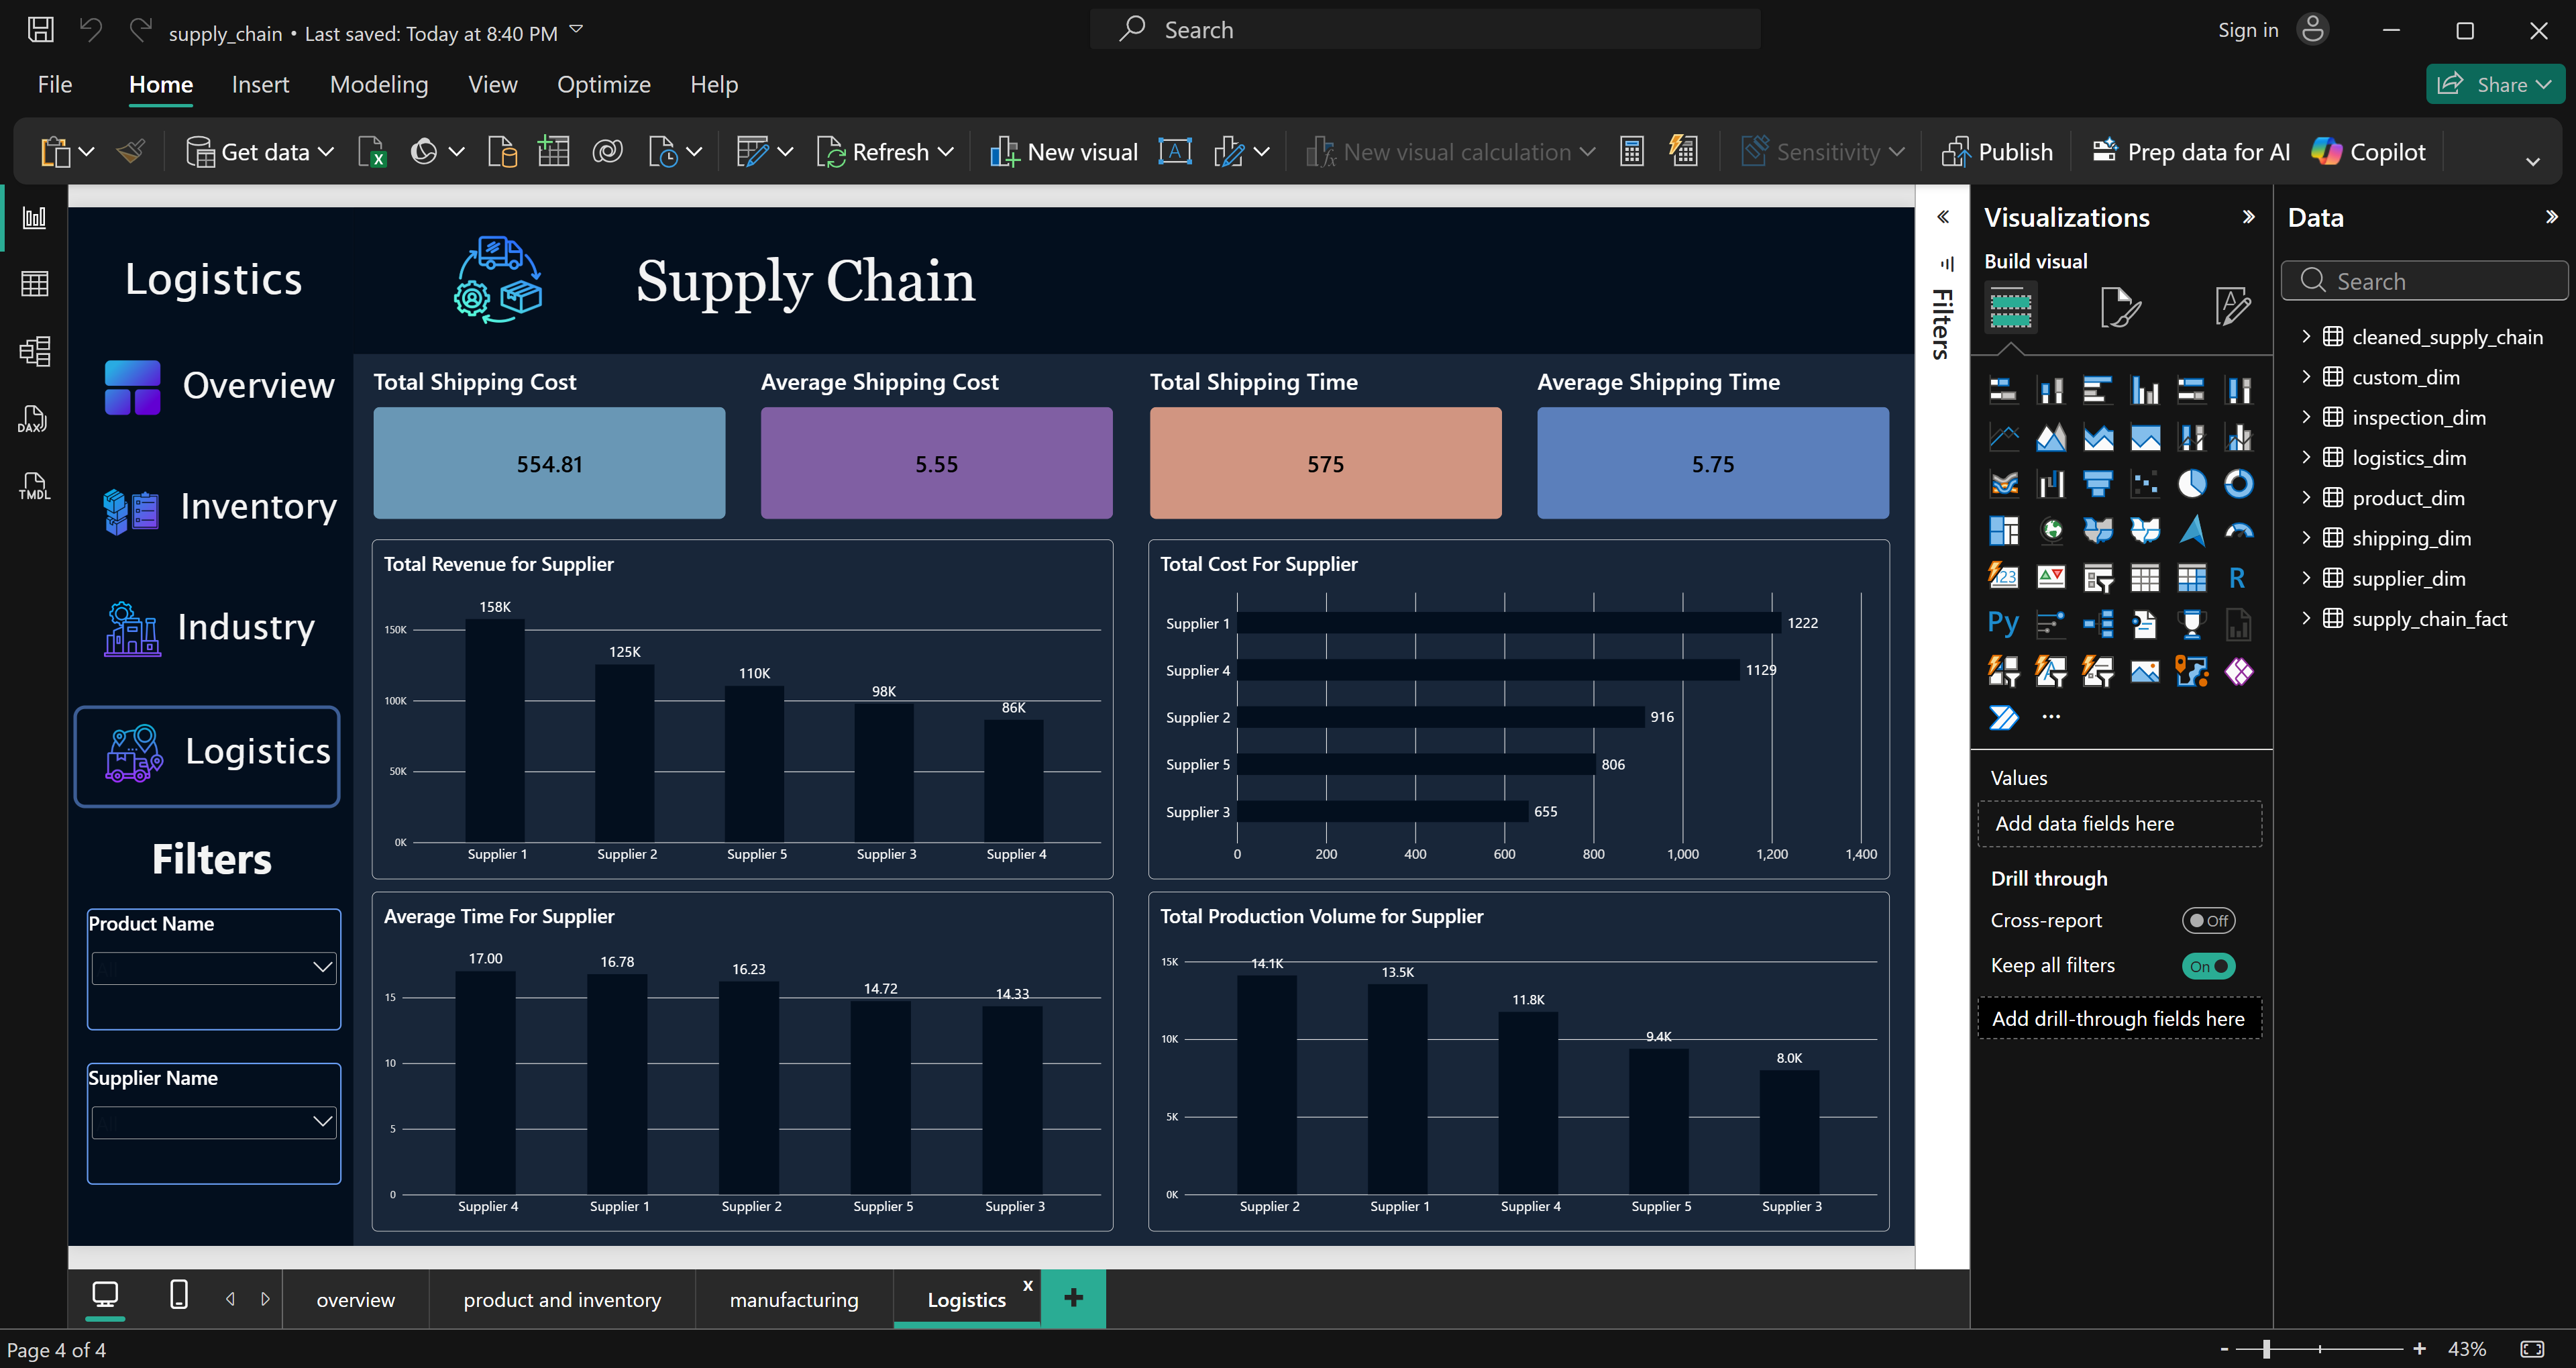

The dashboard page shown, as its layout file describes it:
{"tool":"powerbi","page":{"name":"Logistics","canvas":[2560,1440],"ordinal":3},"visuals":[{"type":"shape","box":[0,0,395.2,1440.8],"z":0},{"type":"shape","box":[395.2,0,2165.4,203.1],"z":1000},{"type":"image","box":[511.5,38.4,168.1,122.5],"z":2000},{"type":"textbox","box":[765.6,56.4,516.3,105.7],"z":3000},{"type":"cardVisual","title":"Total Shipping Cost","fields":{"Data":["Sum(supply_chain_fact.shipping_costs)"]},"box":[423,217.6,488.4,214],"z":4000},{"type":"cardVisual","title":"Average Shipping Cost","fields":{"Data":["Avg(supply_chain_fact.shipping_costs)"]},"box":[960.9,217.6,488.4,214],"z":5000},{"type":"cardVisual","title":"Total Shipping Time","fields":{"Data":["Sum(supply_chain_fact.shipping_time)"]},"box":[1498.9,217.6,488.4,214],"z":6000},{"type":"cardVisual","title":"Average Shipping Time","fields":{"Data":["Avg(supply_chain_fact.shipping_time)"]},"box":[2036.8,218.4,488.4,214],"z":7000},{"type":"clusteredColumnChart","title":"Total Revenue for Supplier","fields":{"Category":["supplier_dim.supplier_name"],"Y":["Sum(supply_chain_fact.revenue)"]},"box":[422.1,461.4,1028.2,471.2],"z":8000},{"type":"clusteredBarChart","title":"Total Cost For Supplier","fields":{"Category":["supplier_dim.supplier_name"],"Y":["Sum(supply_chain_fact.manufacturing_costs)"]},"box":[1496.9,461.4,1028.2,471.2],"z":9000},{"type":"clusteredColumnChart","title":"Average Time For Supplier","fields":{"Y":["Avg(supply_chain_fact.lead_time)"],"Category":["supplier_dim.supplier_name"]},"box":[422.1,949.7,1028.2,471.2],"z":10000},{"type":"clusteredColumnChart","title":"Total Production Volume for Supplier","fields":{"Y":["Sum(supply_chain_fact.production_volumes)"],"Category":["supplier_dim.supplier_name"]},"box":[1496.9,949.7,1028,471],"z":11000},{"type":"textbox","box":[24.5,56.4,353.4,105.5],"z":12000},{"type":"image","box":[49.1,206.1,81,85.9],"z":13000},{"type":"textbox","box":[132.5,211,262.6,81],"z":14000},{"type":"image","box":[49.1,382.8,76.1,78.5],"z":15000},{"type":"textbox","box":[132.5,377.9,262.6,81],"z":16000},{"type":"image","box":[49.1,542.3,81,85.9],"z":17000},{"type":"textbox","box":[130.1,547.2,262.6,81],"z":18000},{"type":"image","box":[51.5,714.1,81,85.9],"z":19000},{"type":"textbox","box":[132.5,719,262.6,81],"z":20000},{"type":"shape","box":[7.4,689.6,370.6,142.3],"z":21000},{"type":"textbox","box":[49.1,861.4,299.4,88.3],"z":22000},{"type":"slicer","title":"Product Name","fields":{"Values":["product_dim.product_name"]},"box":[24.5,971.8,353.4,169.3],"z":23000},{"type":"slicer","title":"Supplier Name","fields":{"Values":["supplier_dim.supplier_name"]},"box":[24.5,1185.3,353.4,169.3],"z":24000}]}

Visuals, with their boxes on the page's 2560x1440 design canvas (x1, y1, x2, y2). These are canvas units, not pixel positions in the 2576x1368 screenshot, which may show the page scaled, cropped or inside an application window:
shape: region(0, 0, 395, 1441)
shape: region(395, 0, 2561, 203)
image: region(512, 38, 680, 161)
textbox: region(766, 56, 1282, 162)
"Total Shipping Cost" cardVisual: region(423, 218, 911, 432)
"Average Shipping Cost" cardVisual: region(961, 218, 1449, 432)
"Total Shipping Time" cardVisual: region(1499, 218, 1987, 432)
"Average Shipping Time" cardVisual: region(2037, 218, 2525, 432)
"Total Revenue for Supplier" clusteredColumnChart: region(422, 461, 1450, 933)
"Total Cost For Supplier" clusteredBarChart: region(1497, 461, 2525, 933)
"Average Time For Supplier" clusteredColumnChart: region(422, 950, 1450, 1421)
"Total Production Volume for Supplier" clusteredColumnChart: region(1497, 950, 2525, 1421)
textbox: region(24, 56, 378, 162)
image: region(49, 206, 130, 292)
textbox: region(132, 211, 395, 292)
image: region(49, 383, 125, 461)
textbox: region(132, 378, 395, 459)
image: region(49, 542, 130, 628)
textbox: region(130, 547, 393, 628)
image: region(52, 714, 132, 800)
textbox: region(132, 719, 395, 800)
shape: region(7, 690, 378, 832)
textbox: region(49, 861, 348, 950)
"Product Name" slicer: region(24, 972, 378, 1141)
"Supplier Name" slicer: region(24, 1185, 378, 1355)
